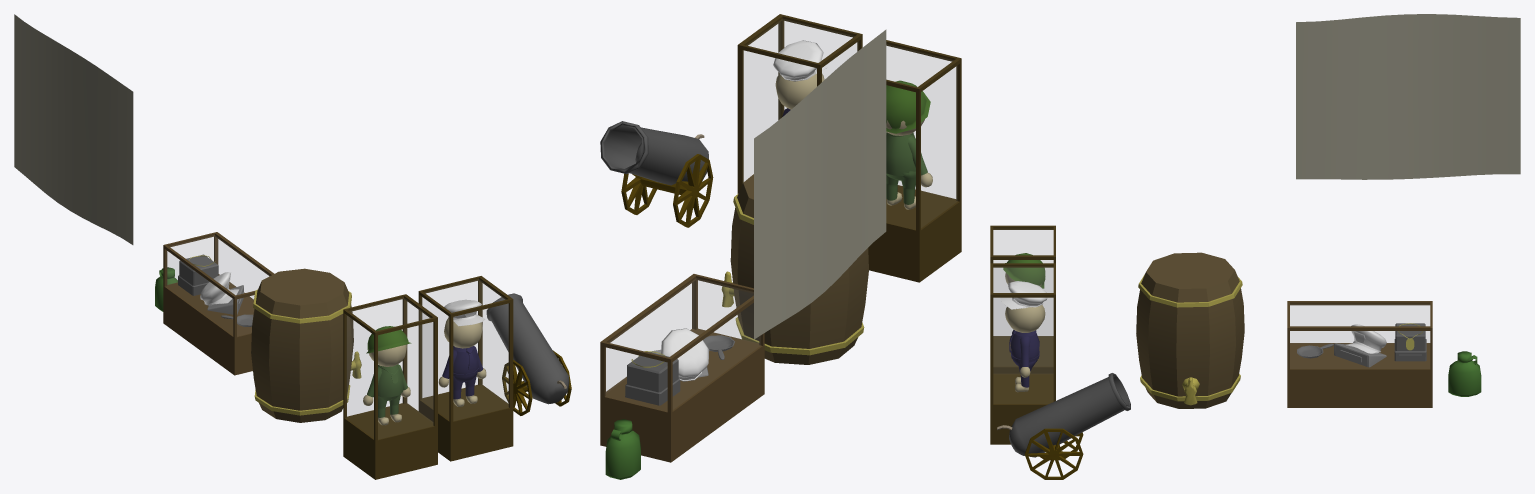
File: Musuem_Assets.fbx
3 views of the same model, side by side, from view 1: azimuth 30°, elevation 25°; view 2: azimuth 150°, elevation 25°; view 3: azimuth 270°, elevation 25° (orthographic). The views are drawn at different scales.
Visible parts, largest first — view 1: Map, pCube2 (×2), Barrel, pCube6, pCylinder5, polySurface5 (×2), pCube5, pCylinder11, polySurface10, pSphere1, polySurface1; view 2: Map, pCube2 (×2), Barrel, pCube6, pCylinder5, polySurface1 (×2), pCube5, pCylinder11, Canteen, pSphere1, polySurface5, polySurface10 (+3 smaller); view 3: Map, Barrel, pCube2 (×2), pCylinder5, pCube6, pCylinder10, Canteen, polySurface1 (×2), pCube5, polySurface10, pSphere1, pCube3 (+1 smaller).
Boxes of the visible parts, <box> form: Map: <box>14,14,133,244</box>; pCube2 (×2): <box>163,232,513,461</box>; Barrel: <box>251,268,353,422</box>; pCube6: <box>343,294,437,479</box>; pCylinder5: <box>486,293,569,404</box>; polySurface5 (×2): <box>378,346,478,400</box>; pCube5: <box>178,254,218,295</box>; pCylinder11: <box>502,360,532,415</box>; polySurface10: <box>444,317,482,348</box>; pSphere1: <box>366,326,411,353</box>; polySurface1: <box>200,272,230,305</box>; Map: <box>754,29,886,339</box>; pCube2 (×2): <box>600,14,862,462</box>; Barrel: <box>730,174,868,364</box>; pCube6: <box>868,40,961,282</box>; pCylinder5: <box>600,121,708,185</box>; polySurface1 (×2): <box>661,40,823,381</box>; pCube5: <box>625,352,680,405</box>; pCylinder11: <box>673,154,713,227</box>; Canteen: <box>605,419,640,479</box>; pSphere1: <box>886,80,930,133</box>; polySurface5: <box>886,133,915,180</box>; polySurface10: <box>775,73,824,109</box>; Map: <box>1296,14,1520,179</box>; Barrel: <box>1136,252,1244,408</box>; pCube2 (×2): <box>990,263,1432,444</box>; pCylinder5: <box>1009,373,1130,457</box>; pCube6: <box>990,225,1055,373</box>; pCylinder10: <box>1024,428,1083,479</box>; Canteen: <box>1448,351,1481,396</box>; polySurface1 (×2): <box>1008,281,1386,352</box>; pCube5: <box>1394,323,1426,361</box>; polySurface10: <box>1005,305,1045,332</box>; pSphere1: <box>1003,253,1045,288</box>; pCube3: <box>1334,343,1386,367</box>.
Bounding box in the file's own units: 7.71 × 7.19 × 10.93.
